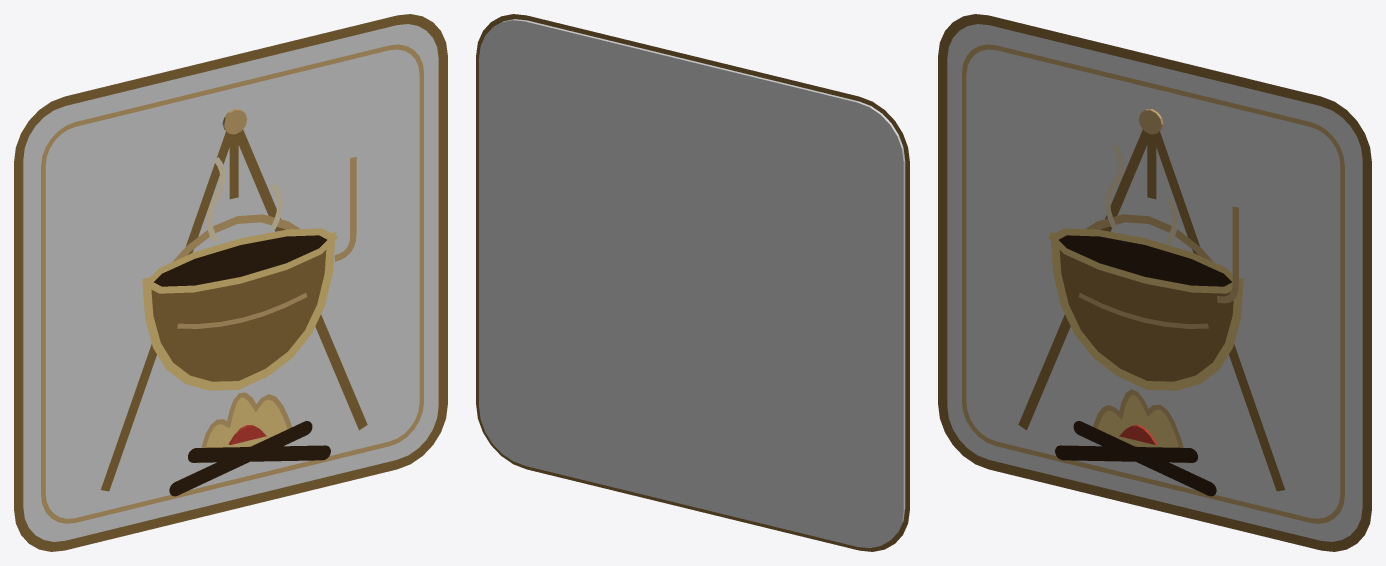
File: obj-kotel-pokhodnyi.glb
The picture shows the model from 3 angles, left to right: view 1: azimuth 30°, elevation 25°; view 2: azimuth 150°, elevation 25°; view 3: azimuth 330°, elevation 25°; orthographic projection.
Parts seen in each view (by area): view 1: obj-kotel-pokhodnyi; view 2: obj-kotel-pokhodnyi; view 3: obj-kotel-pokhodnyi.
Boxes of the visible parts, <box> form: obj-kotel-pokhodnyi: <box>14,14,447,551</box>; obj-kotel-pokhodnyi: <box>476,14,909,551</box>; obj-kotel-pokhodnyi: <box>938,14,1371,551</box>.
Size of the model in its own units: 0.3917 by 0.3917 by 0.0351.
